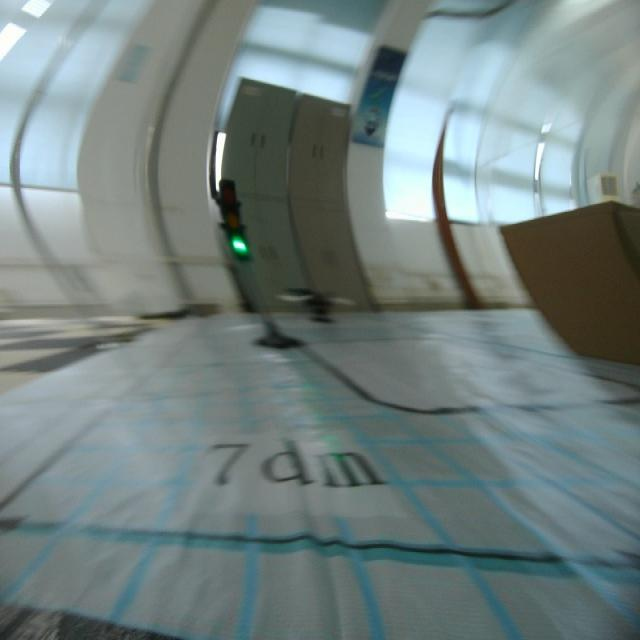green: (215, 173, 253, 268)
